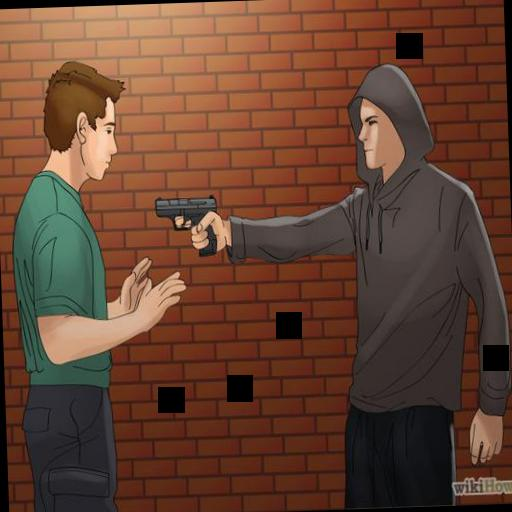Handgun: (153, 190, 222, 258)
